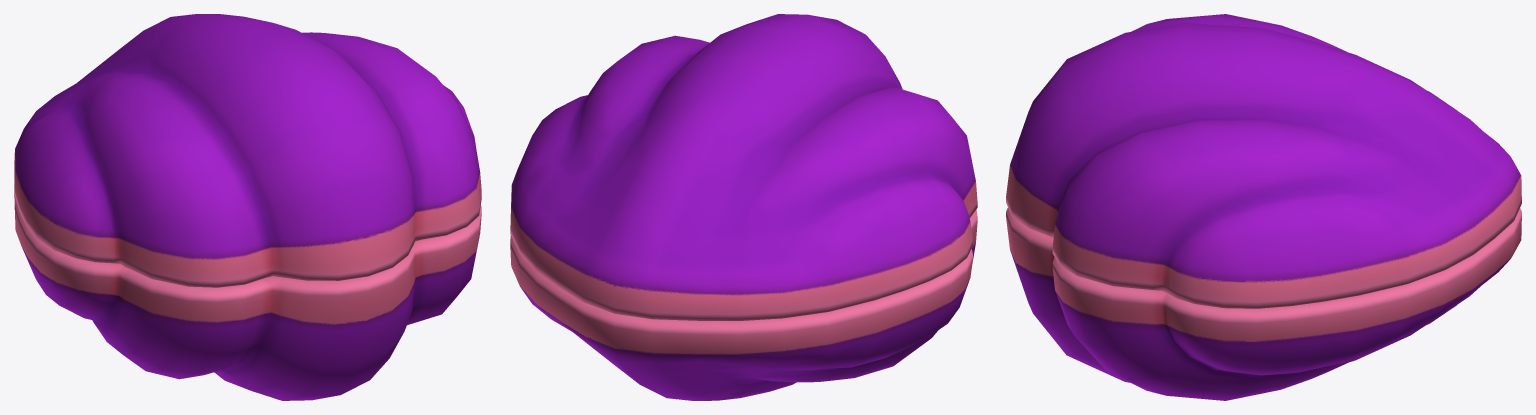
File: egg_in.fbx
The picture shows the model from 3 angles, left to right: view 1: azimuth 30°, elevation 25°; view 2: azimuth 150°, elevation 25°; view 3: azimuth 270°, elevation 25°; orthographic projection. The views are drawn at different scales.
Parts seen in each view (by area): view 1: Top, Bot; view 2: Top, Bot; view 3: Top, Bot.
Part boxes in pixels (box(x1,y1,x2,y2)): Top: box(14, 14, 481, 287); Bot: box(14, 183, 481, 400); Top: box(510, 14, 977, 320); Bot: box(510, 209, 977, 400); Top: box(1006, 14, 1521, 308); Bot: box(1006, 208, 1521, 400).
Size of the model in its own units: 16 by 12.38 by 16.57.
